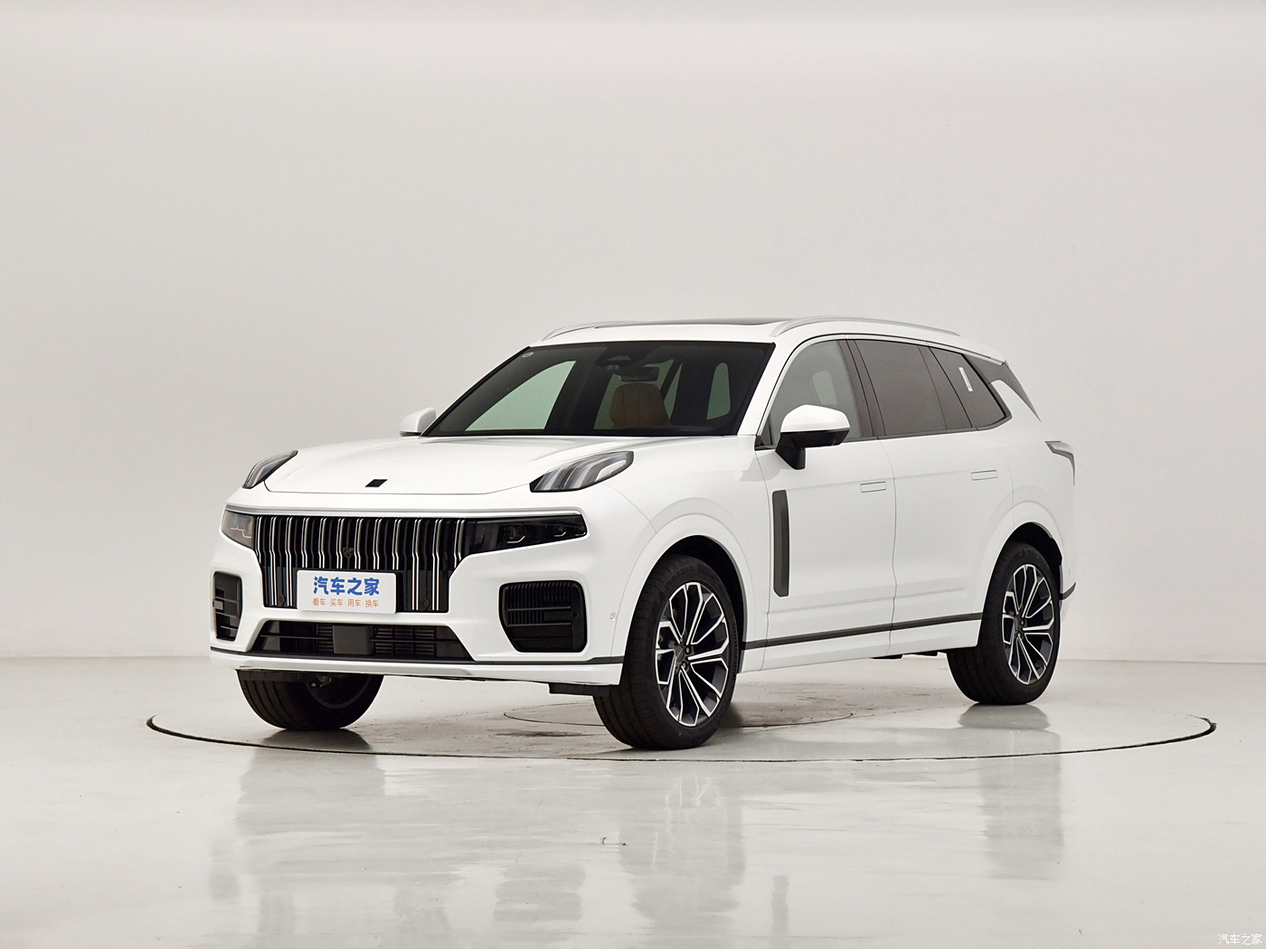LINK&CO: (364, 479, 389, 488)
